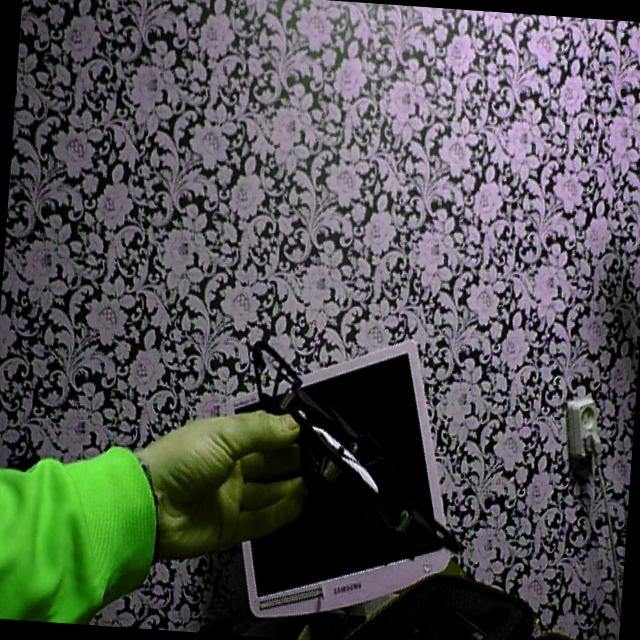drone: (208, 304, 500, 592)
